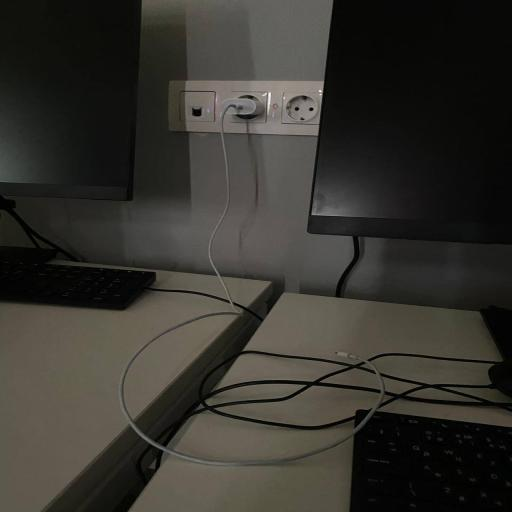stroller: (0, 292, 229, 511), (247, 294, 499, 360)
